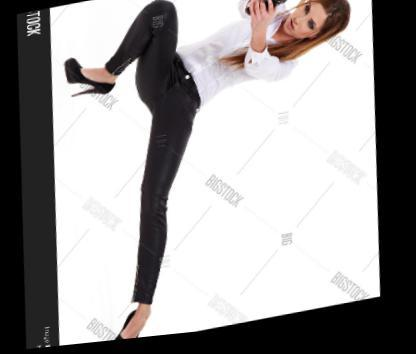pistol: (245, 0, 291, 21)
